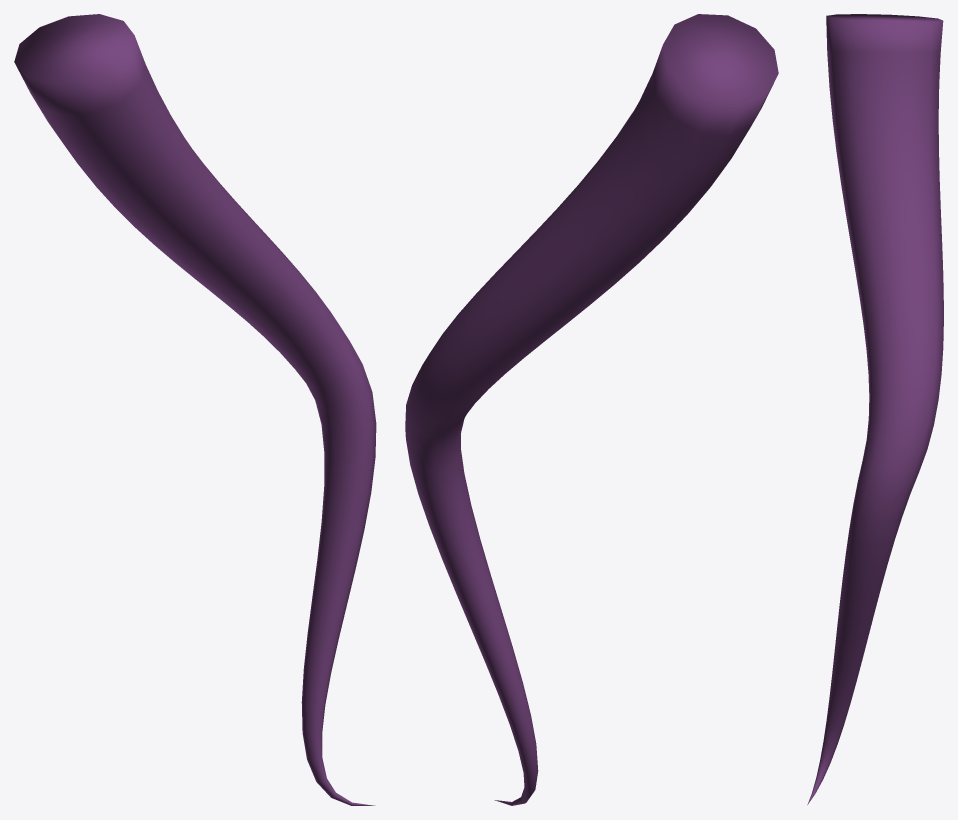
The model's file is tentaculle 2.fbx.
3 renders of one model, left to right at view 1: azimuth 30°, elevation 25°; view 2: azimuth 150°, elevation 25°; view 3: azimuth 270°, elevation 25°, orthographic. The views are drawn at different scales.
Parts seen in each view (by area): view 1: tête.001; view 2: tête.001; view 3: tête.001.
Part boxes in pixels (<box>): tête.001: <box>14,14,376,805</box>; tête.001: <box>405,14,778,805</box>; tête.001: <box>807,14,943,804</box>.
Bounding box in the file's own units: 1.44 × 3.27 × 0.5837.
